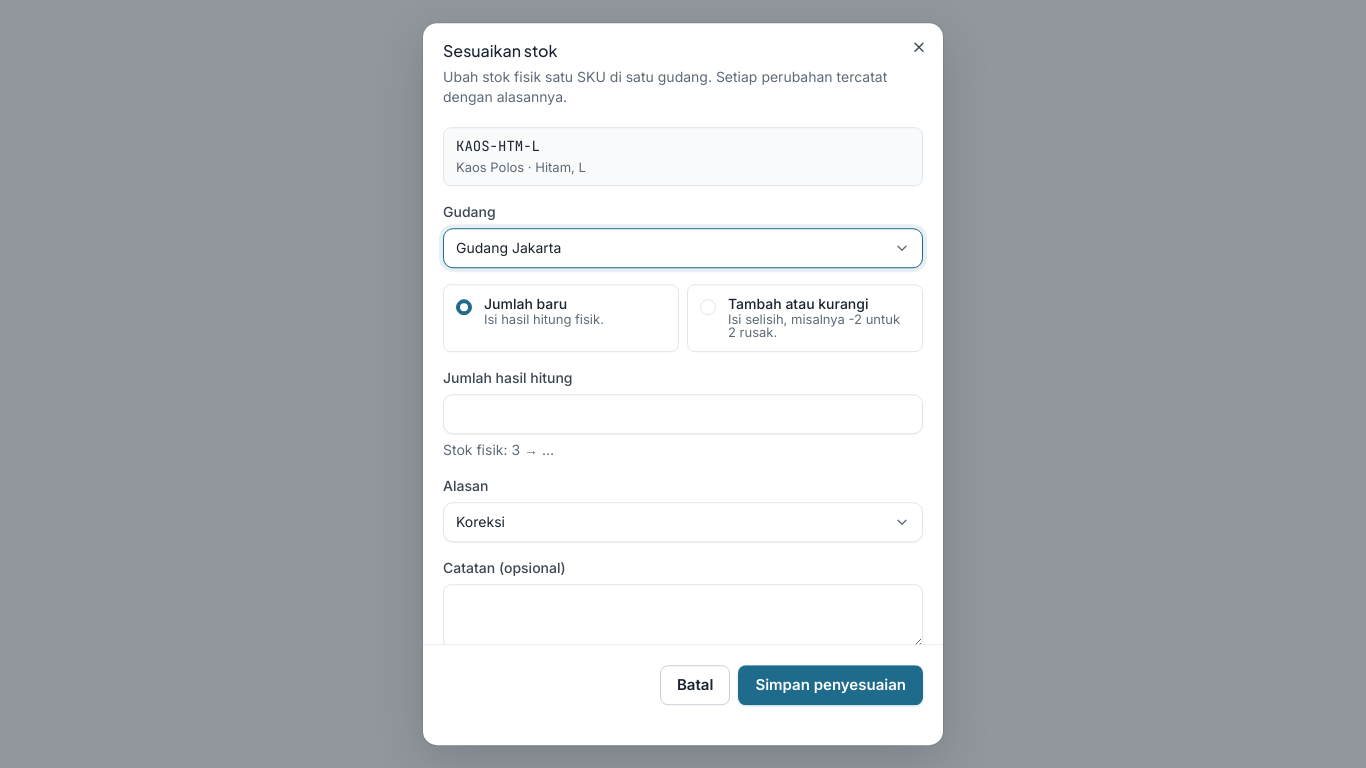
AdjustStockDialog › asks for a note when the reason is Lainnya
Type "4" into the number field labelled "Jumlah hasil hitung". click: [683, 414]
box: [443, 394, 923, 434]
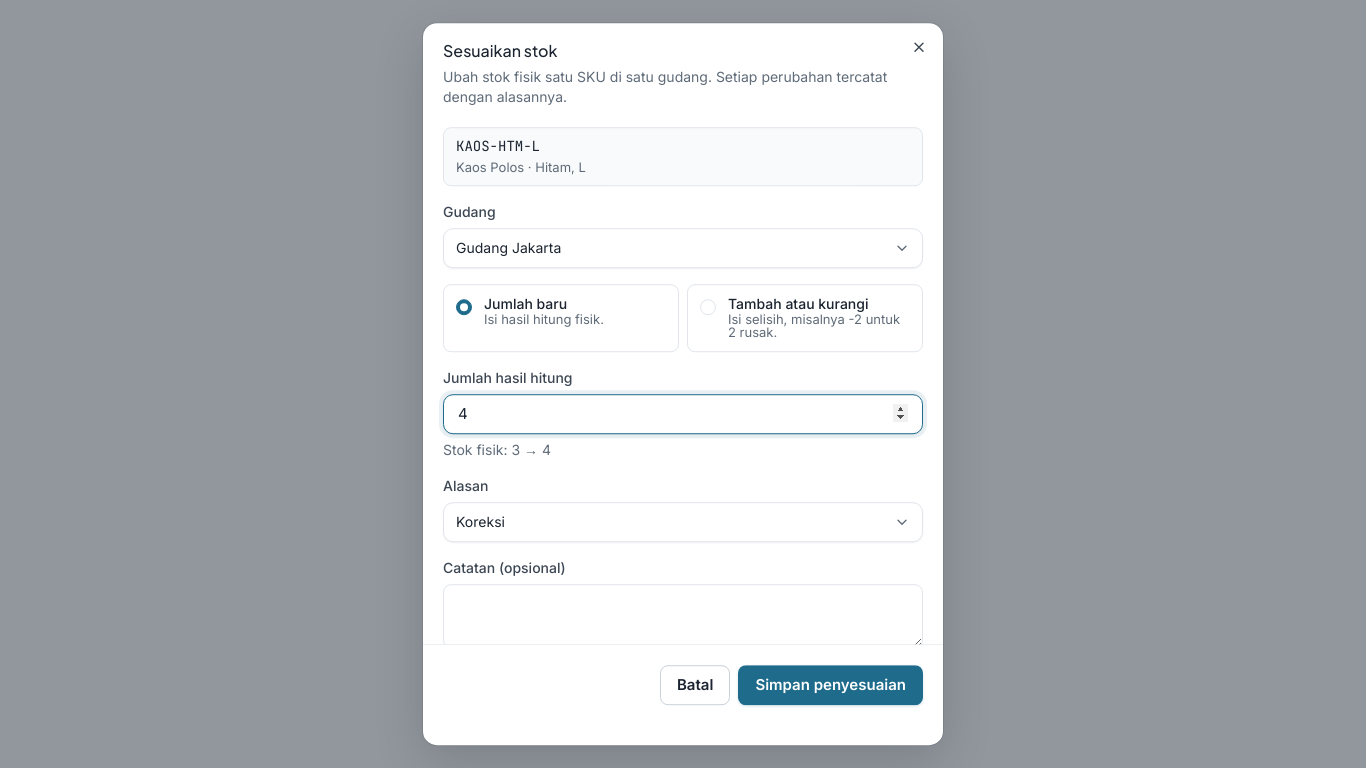
Click the dropdown named "Alasan". click: [480, 521]
box: [443, 502, 923, 542]
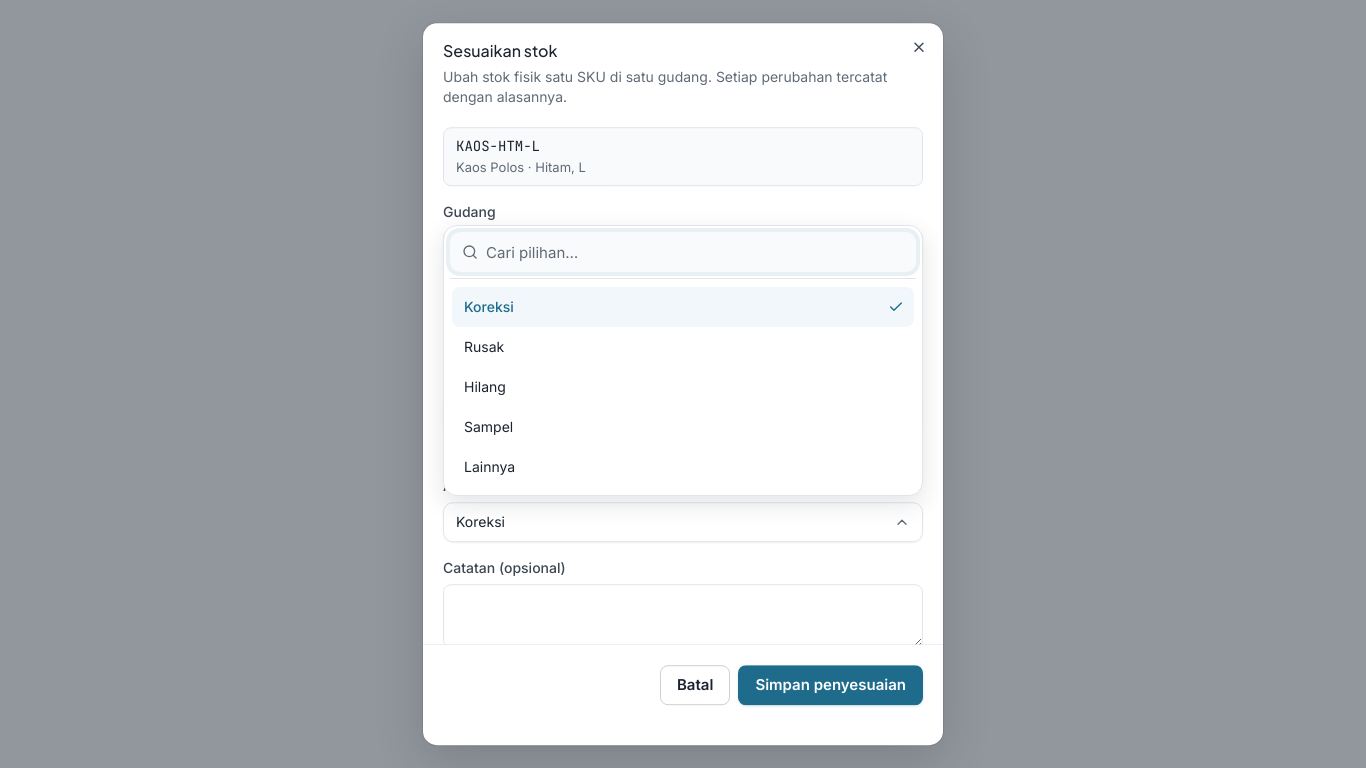
Click the option "Lainnya". click: [490, 466]
box: [464, 458, 515, 475]
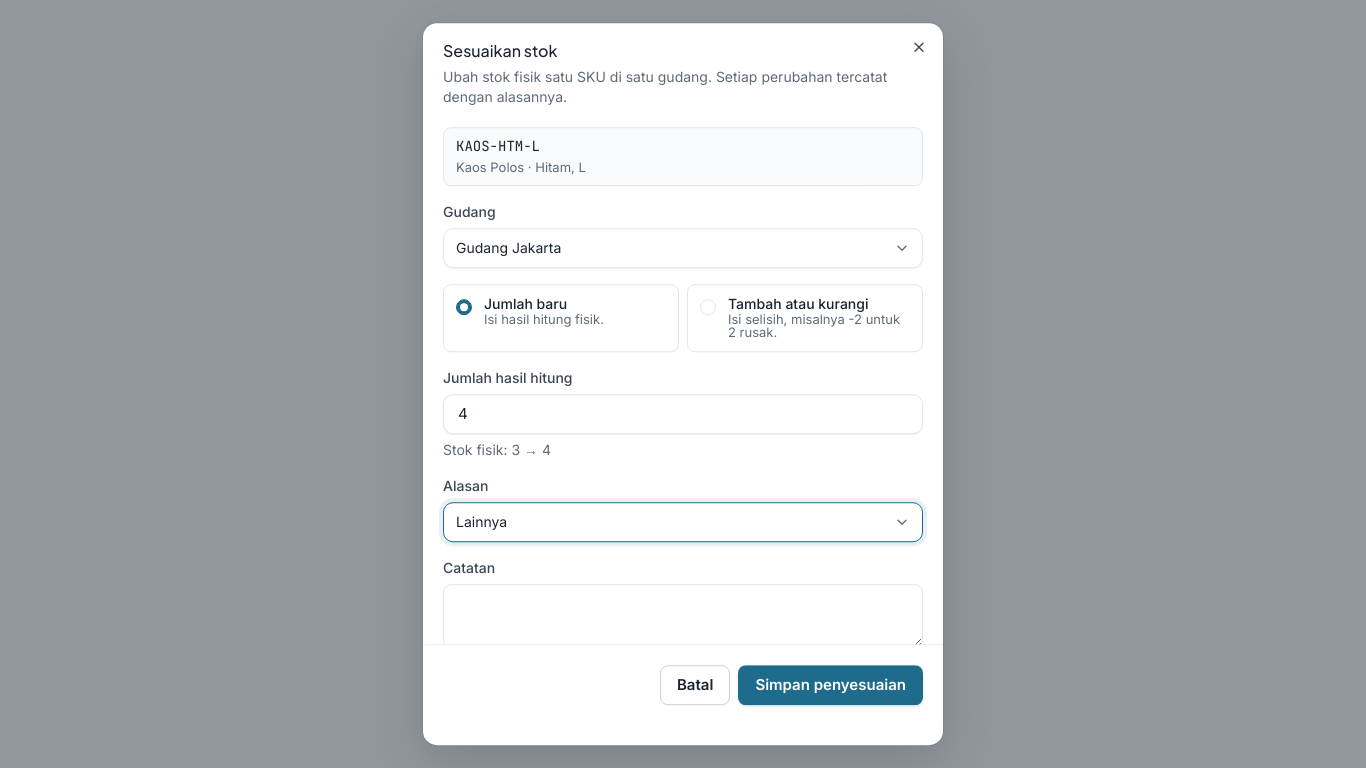
Click the button "Simpan penyesuaian". click: [831, 685]
box: [738, 665, 923, 705]
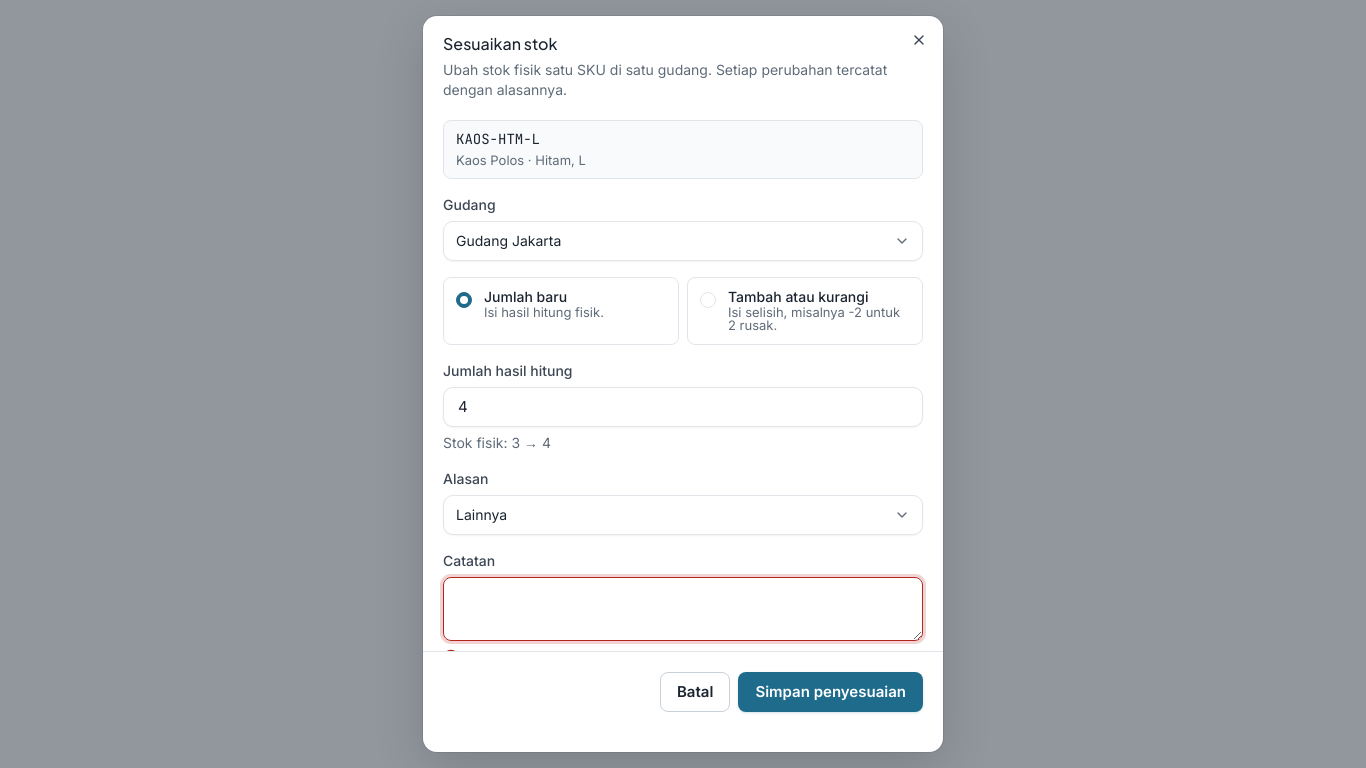
Expected: the text "Tulis catatan untuk alasan Lainnya." is shown, [443, 648, 695, 665]
